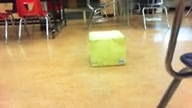cube: (87, 30, 127, 66)
